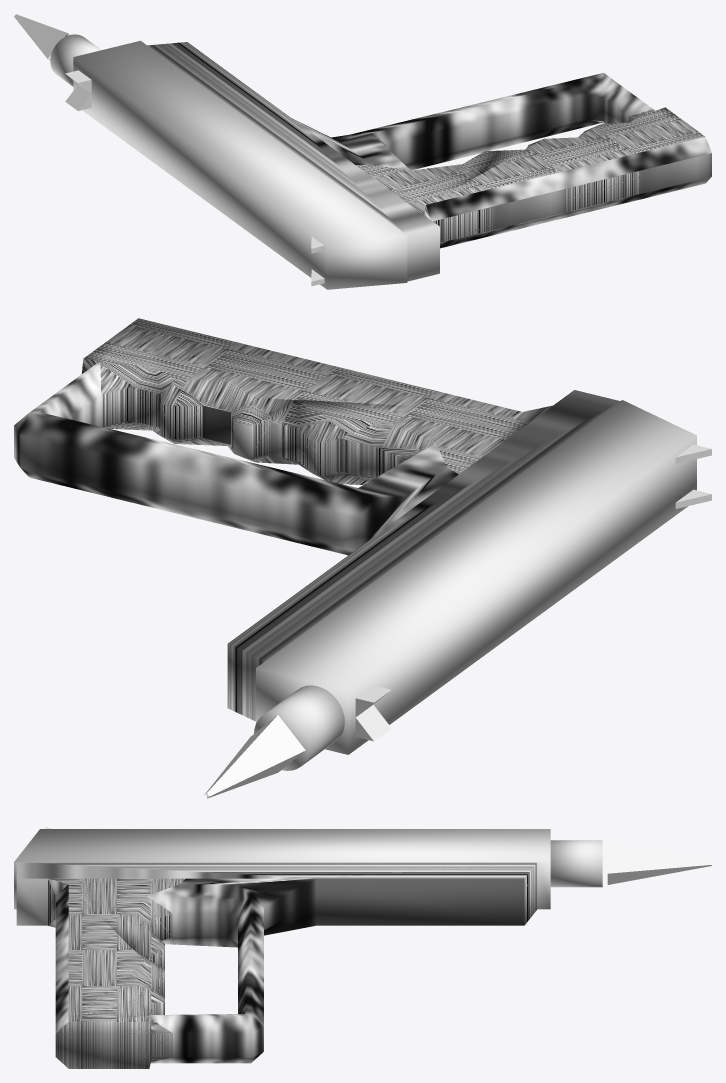
Rendered from gun_pistol.fbx.
3 renders of one model, top to bottom at view 1: azimuth 30°, elevation 25°; view 2: azimuth 150°, elevation 25°; view 3: azimuth 270°, elevation 25°, orthographic. The views are drawn at different scales.
Visible parts, largest first — view 1: Gun.Pistol; view 2: Gun.Pistol; view 3: Gun.Pistol.
Boxes of the visible parts, x1,y1,x2,y2 form: Gun.Pistol: [14, 14, 711, 289]; Gun.Pistol: [14, 318, 711, 798]; Gun.Pistol: [14, 827, 711, 1068].
Size of the model in its own units: 18.1 by 2 by 26.8.
